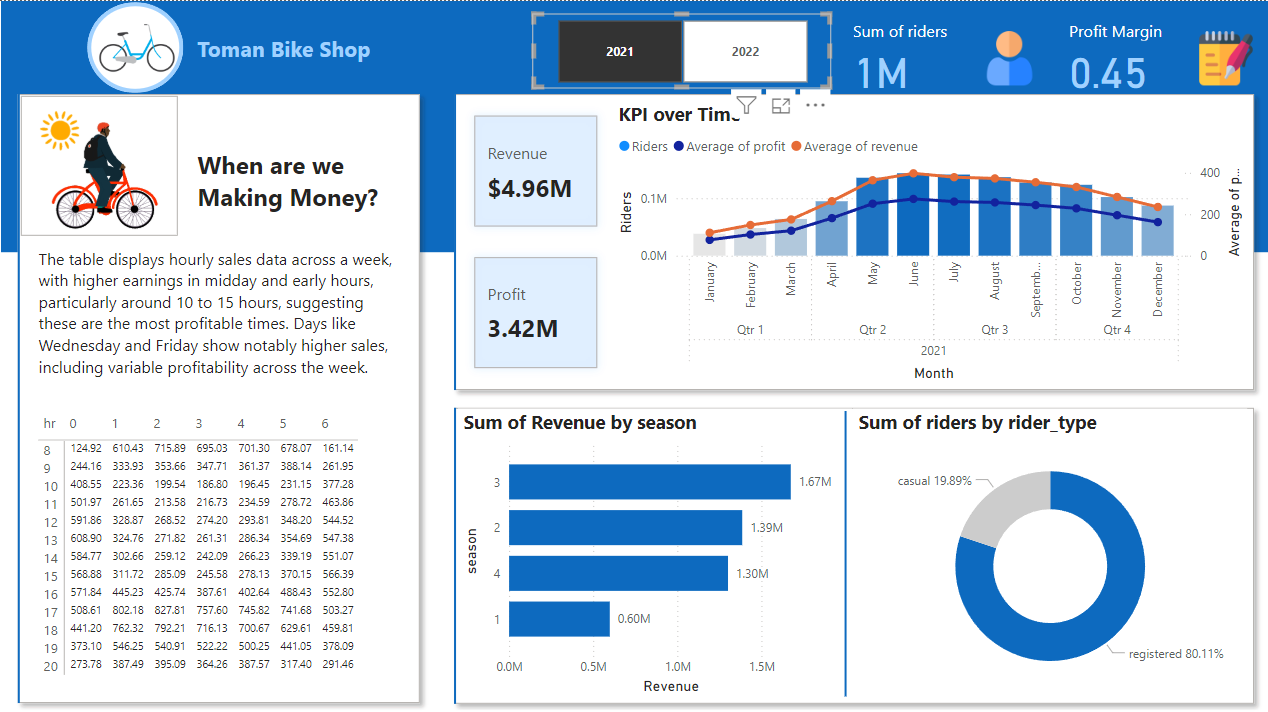

Layout of this report page (visuals, bound fields, positions):
{"tool":"powerbi","page":{"name":"Dashboard","canvas":[1280,720],"ordinal":0},"visuals":[{"type":"shape","box":[9.6,0,1270.7,251.1],"z":0},{"type":"cardVisual","fields":{"Data":["Min(Query1.riders)"]},"box":[9.6,76.8,436.4,643.6],"z":1000},{"type":"cardVisual","fields":{"Data":["Min(Query1.riders)"]},"box":[446,76.8,834.3,330.7],"z":2000},{"type":"cardVisual","fields":{"Data":["Min(Query1.riders)"]},"box":[446,389.7,834.3,330.7],"z":3000},{"type":"cardVisual","fields":{"Data":["Min(Query1.riders)"]},"box":[24.7,90.6,167.4,150.9],"z":4000},{"type":"pivotTable","fields":{"Values":["Avg(Query1.revenue)"],"Columns":["Query1.weekday"],"Rows":["Query1.hr"]},"box":[42.5,407.5,371.9,279.9],"z":5000},{"type":"textbox","box":[201.7,142.7,212.7,82.3],"z":6000},{"type":"textbox","box":[42.5,241.5,371.9,148.2],"z":7000},{"type":"lineClusteredColumnComboChart","title":"KPI over Time","fields":{"Category":["Query1.dteday.Variation.Date Hierarchy.Year","Query1.dteday.Variation.Date Hierarchy.Quarter","Query1.dteday.Variation.Date Hierarchy.Month","Query1.dteday.Variation.Date Hierarchy.Day"],"Y":["Sum(Query1.riders)"],"Y2":["Avg(Query1.profit)","Avg(Query1.revenue)"]},"box":[623,100.2,634,285.4],"z":7001},{"type":"clusteredBarChart","title":"Sum of Revenue by season","fields":{"Category":["Query1.season"],"Y":["Sum(Query1.revenue)"]},"box":[467.9,407.5,393.8,290.9],"z":7002},{"type":"donutChart","fields":{"Category":["Query1.rider_type"],"Y":["Sum(Query1.riders)"]},"box":[863.1,407.5,393.8,290.9],"z":7003},{"type":"shape","box":[705,410,299.1,285.4],"z":7004},{"type":"cardVisual","title":"KPI over Time","fields":{"Data":["Sum(Query1.revenue)","Sum(Query1.profit)"]},"box":[467.9,98.8,155.1,285.4],"z":7005},{"type":"cardVisual","fields":{"Data":["Sum(Query1.riders)","Query1.Profit Margin"]},"box":[845.3,1.4,435,97.4],"z":7006},{"type":"shape","box":[96.1,1.4,96.1,90.6],"z":7007},{"type":"image","box":[100.2,0,91.9,93.3],"z":7008},{"type":"textbox","box":[201.7,27.4,189.4,49.4],"z":7009},{"type":"slicer","fields":{"Values":["Query1.Year"]},"box":[540.7,12.3,299.1,75.5],"z":7010}]}

Visuals, with their boxes in screenshot pixels (x1, y1, x2, y2), scaled from the page's 1280x720 canvas onto the 1268x712 screenshot:
shape: x1=10 y1=0 x2=1267 y2=248
cardVisual - Min(Query1.riders): x1=10 y1=76 x2=442 y2=711
cardVisual - Min(Query1.riders): x1=442 y1=76 x2=1267 y2=403
cardVisual - Min(Query1.riders): x1=442 y1=385 x2=1267 y2=711
cardVisual - Min(Query1.riders): x1=24 y1=90 x2=190 y2=239
pivotTable - Avg(Query1.revenue) x Query1.weekday: x1=42 y1=403 x2=411 y2=680
textbox: x1=200 y1=141 x2=411 y2=222
textbox: x1=42 y1=239 x2=411 y2=385
"KPI over Time" lineClusteredColumnComboChart: x1=617 y1=99 x2=1245 y2=381
"Sum of Revenue by season" clusteredBarChart: x1=464 y1=403 x2=854 y2=691
donutChart - Query1.rider_type x Sum(Query1.riders): x1=855 y1=403 x2=1245 y2=691
shape: x1=698 y1=405 x2=995 y2=688
"KPI over Time" cardVisual: x1=464 y1=98 x2=617 y2=380
cardVisual - Sum(Query1.riders) x Query1.Profit Margin: x1=837 y1=1 x2=1267 y2=98
shape: x1=95 y1=1 x2=190 y2=91
image: x1=99 y1=0 x2=190 y2=92
textbox: x1=200 y1=27 x2=387 y2=76
slicer - Query1.Year: x1=536 y1=12 x2=832 y2=87
